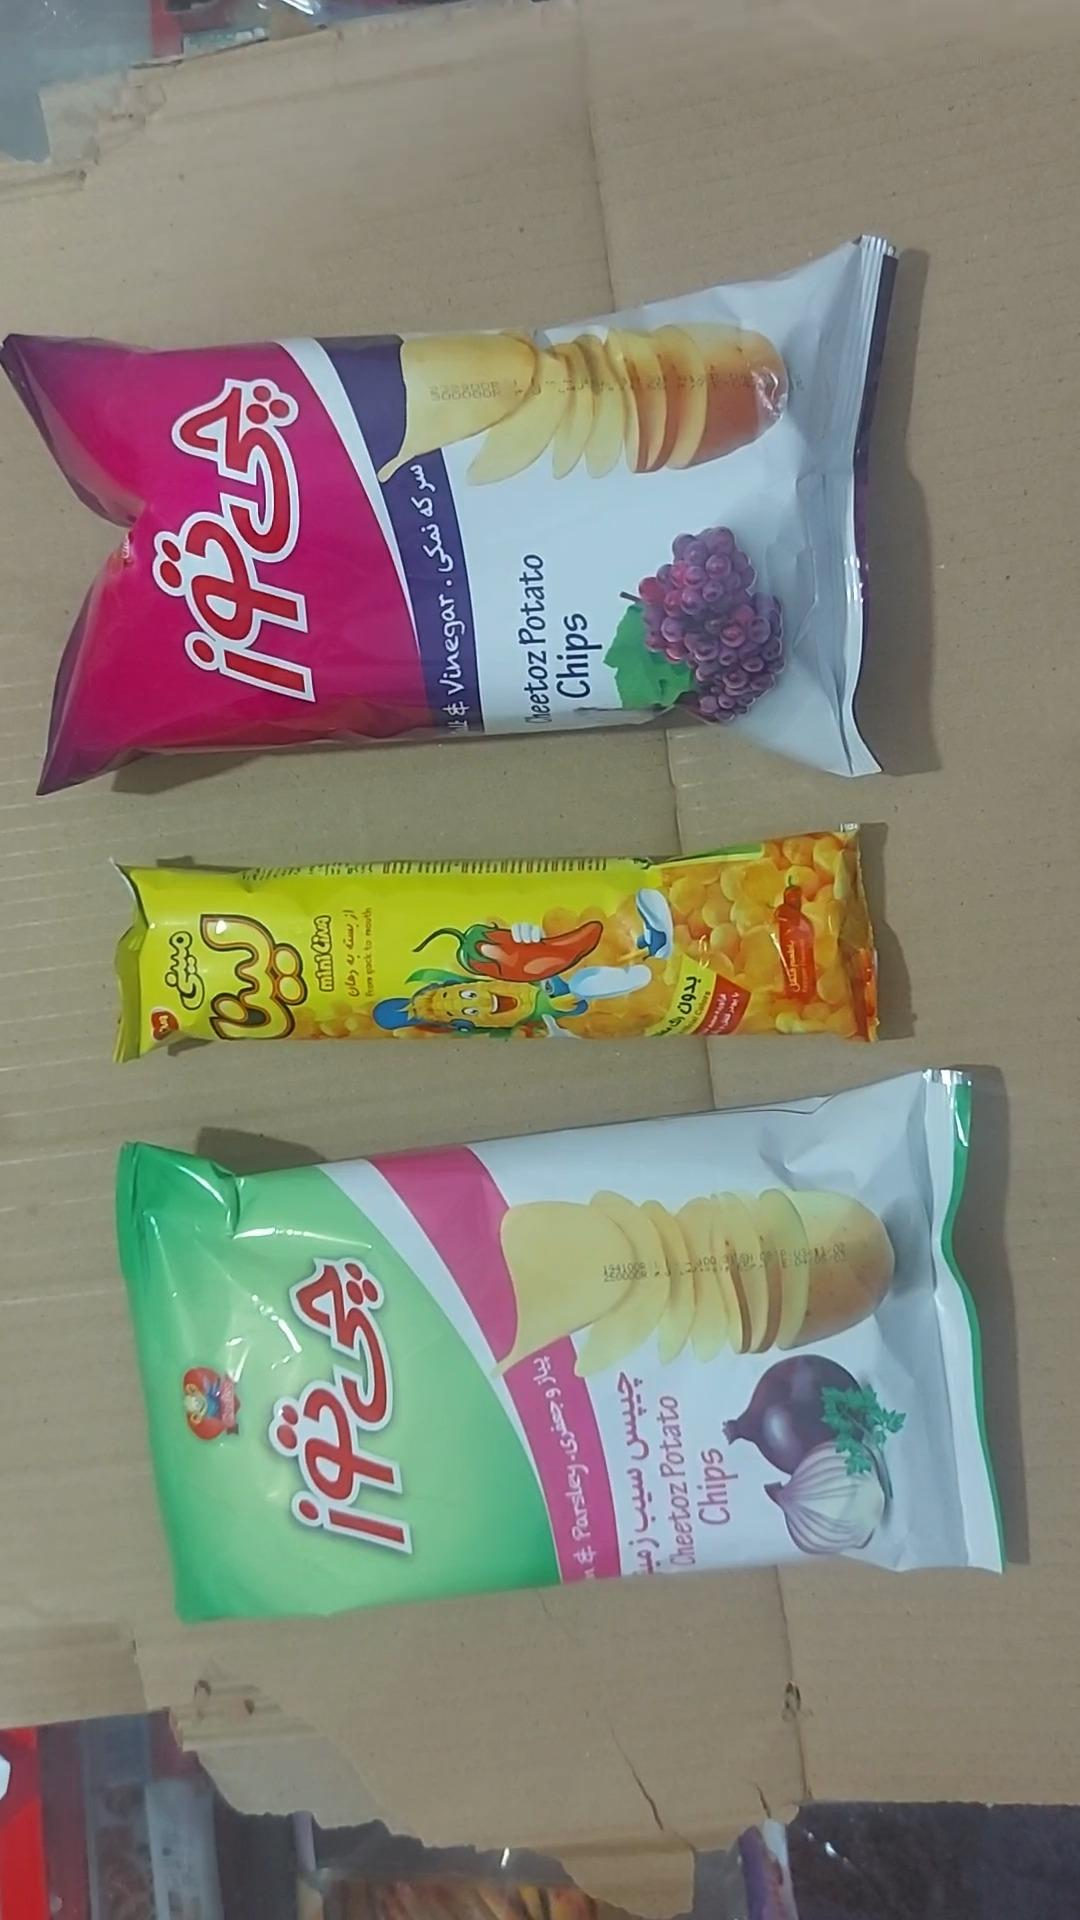Cheetoz onion and parsley chips: (116, 1071, 1004, 1622)
Cheetoz vinegar chips: (0, 237, 895, 793)
Mini Lina: (115, 827, 878, 1062)
